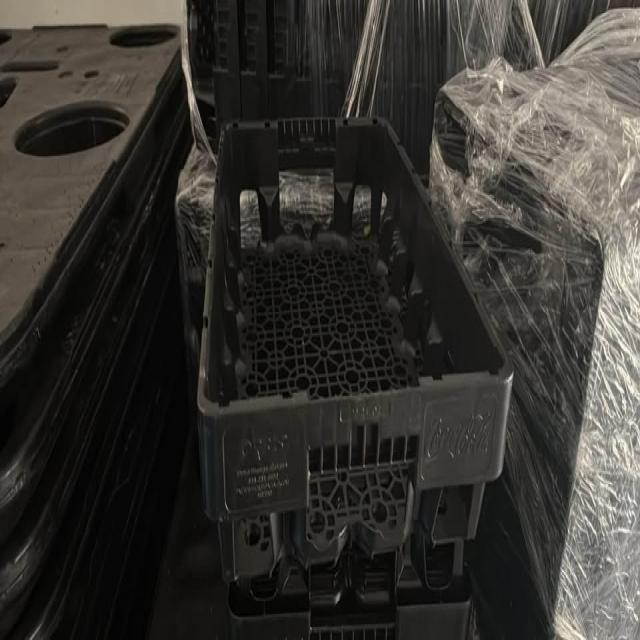non-igps: (190, 111, 515, 588), (0, 12, 197, 640), (223, 528, 485, 638)
